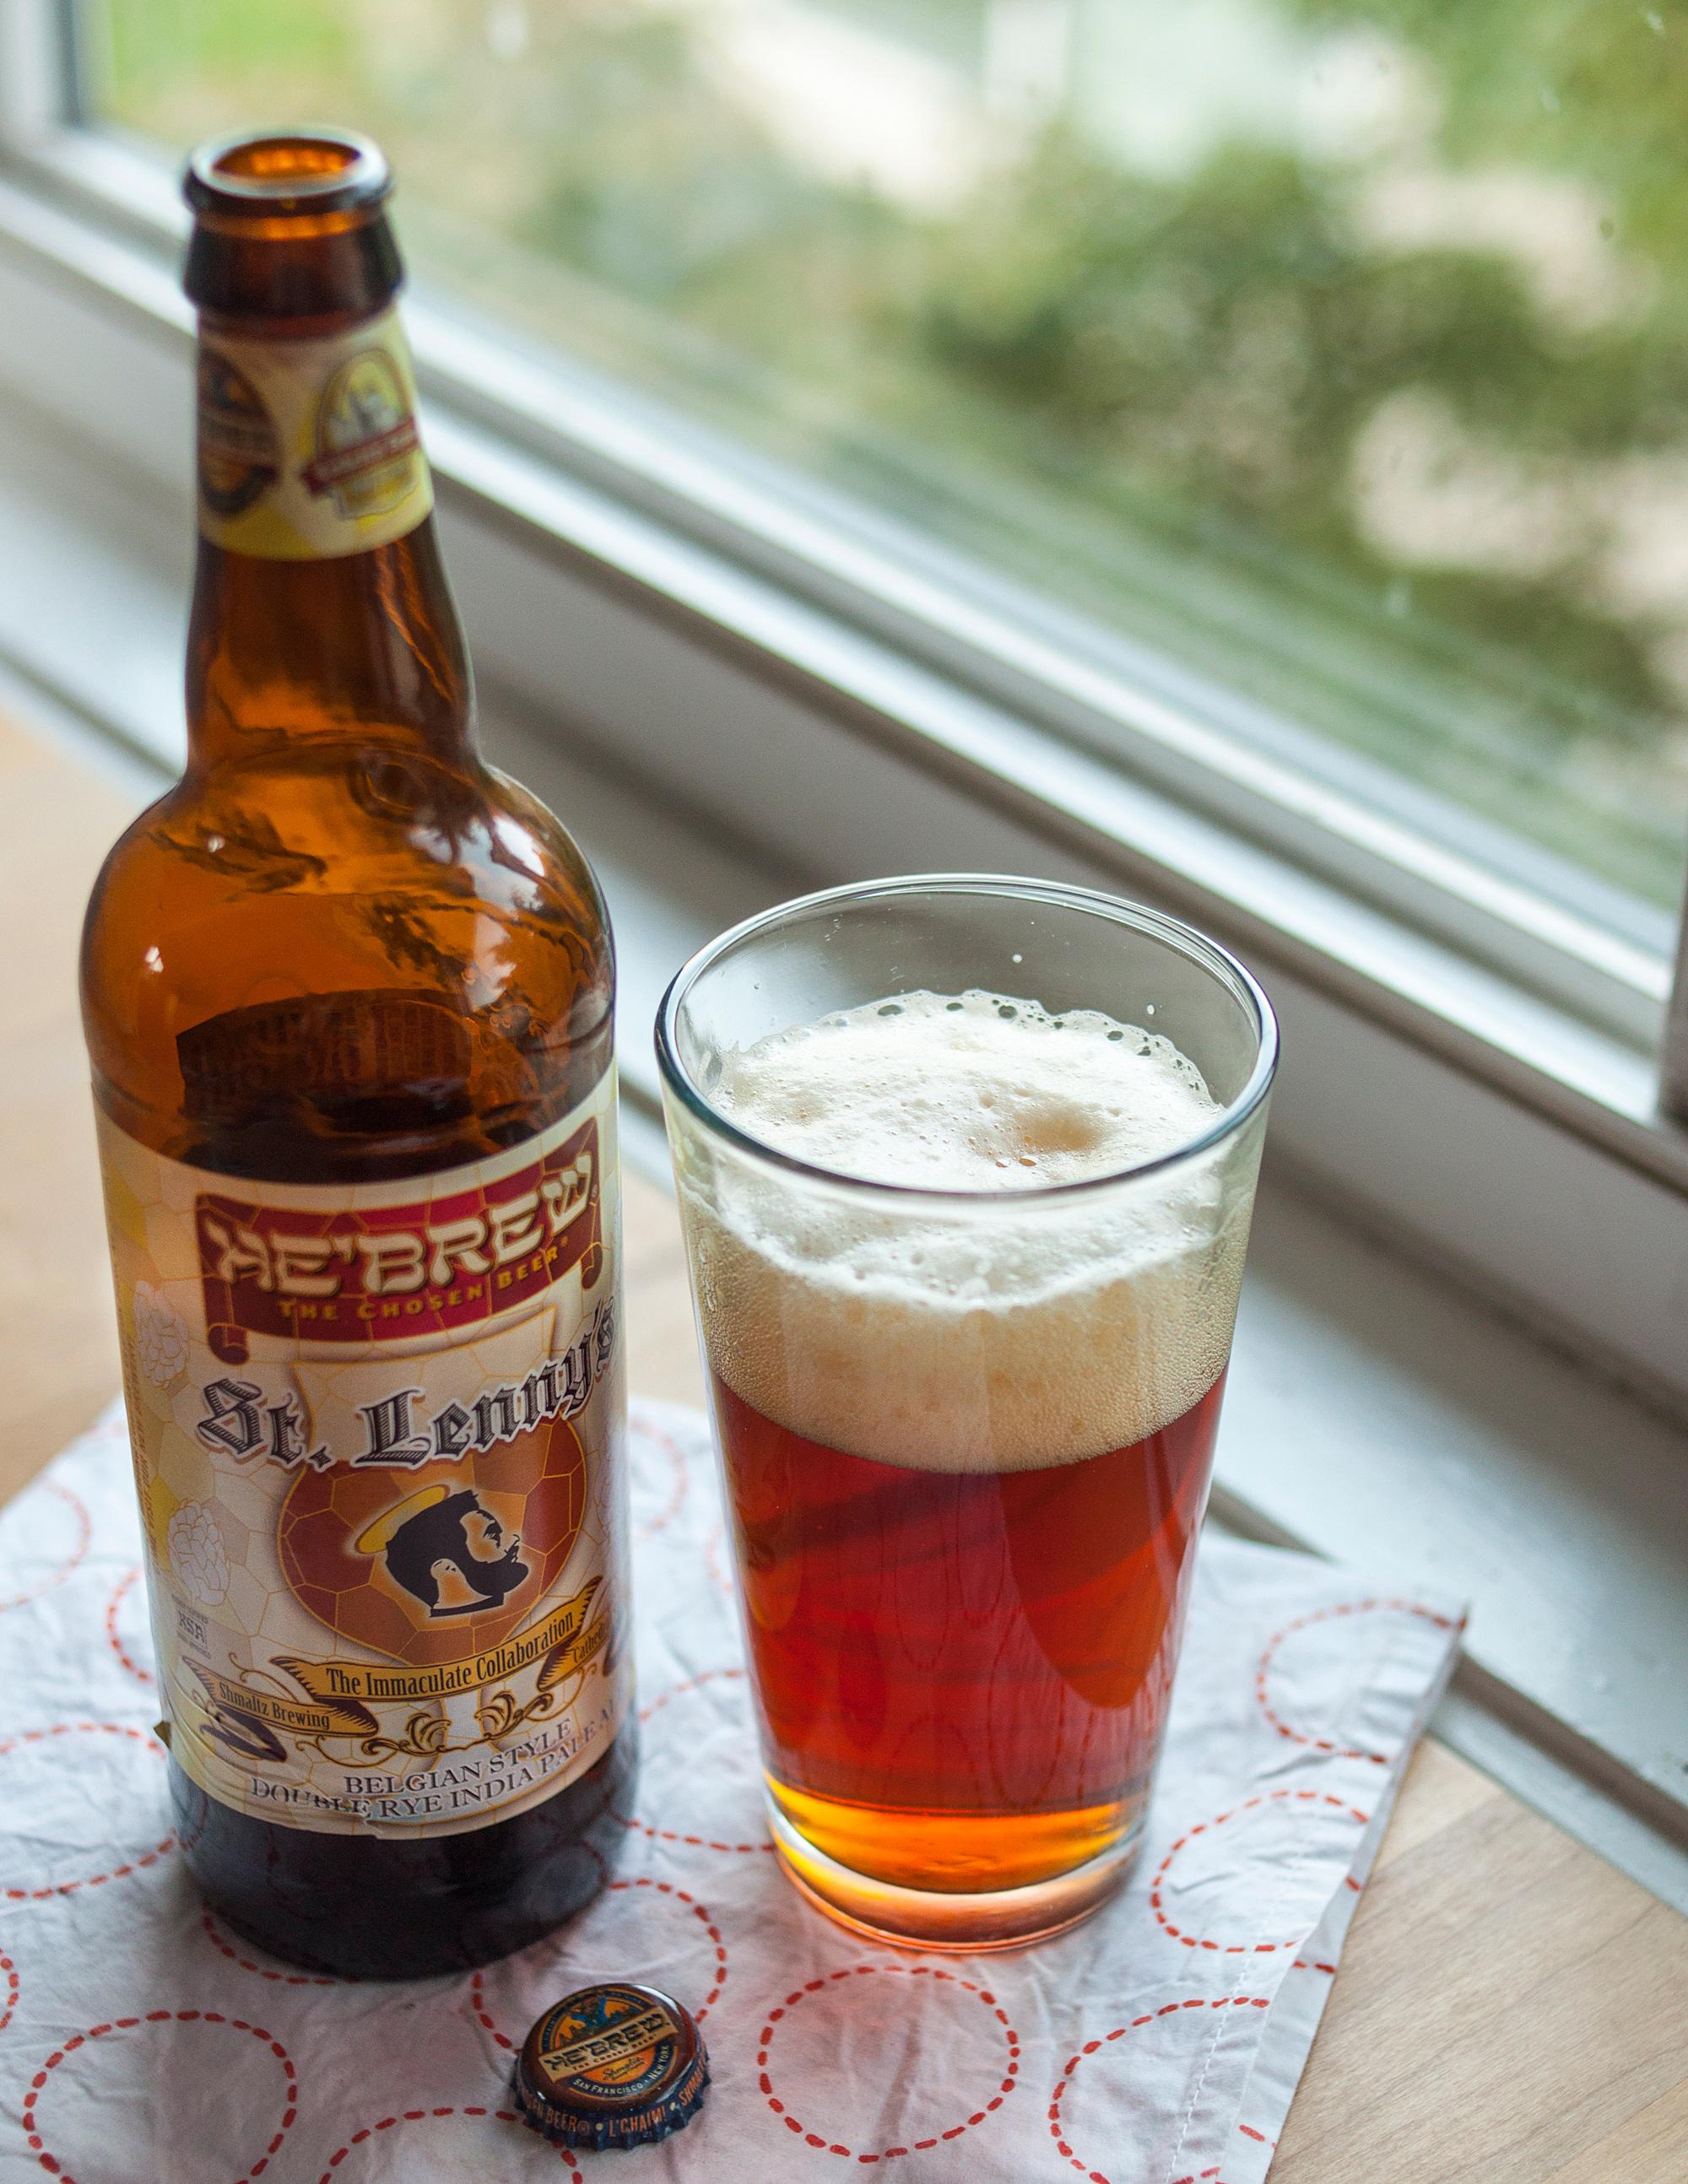glass: (89, 135, 654, 1998), (667, 865, 1275, 1961), (481, 1978, 711, 2141)
